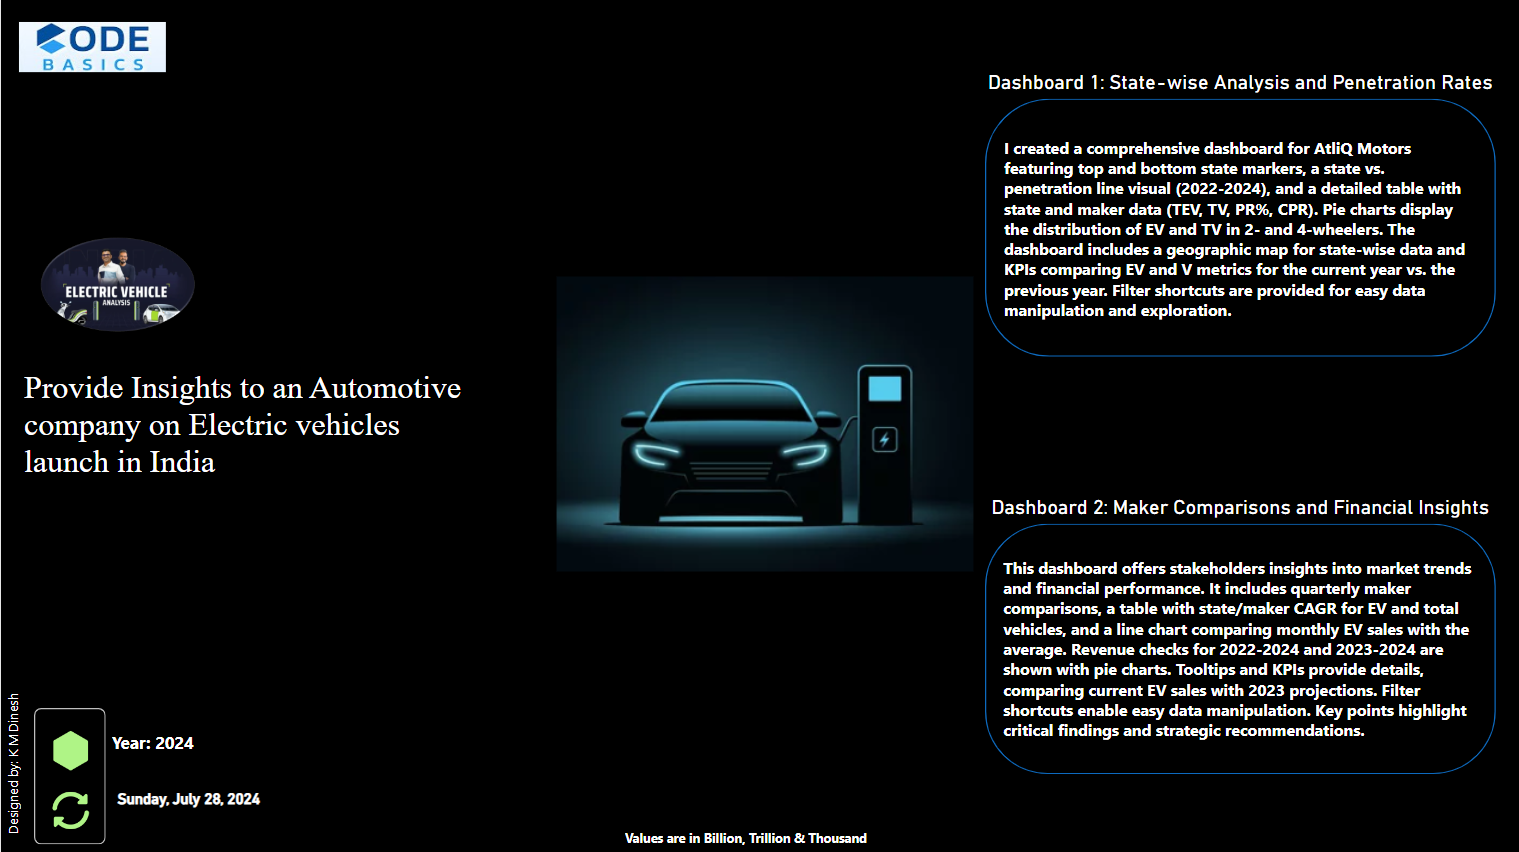

This screenshot's page, from the dashboard's own definition file:
{"tool":"powerbi","page":{"name":"Home","canvas":[1280,720],"ordinal":0},"visuals":[{"type":"shape","box":[27.8,596.5,60,114.3],"z":0},{"type":"shape","box":[19.4,289.1,369.4,141.3],"z":1000},{"type":"image","box":[19.4,193.9,157,145.9],"z":4000},{"type":"image","box":[36.9,661.2,43.4,40.6],"z":5000},{"type":"image","box":[36.9,610.4,43.4,43.4],"z":6000},{"type":"textbox","box":[87.7,610.4,99.7,31.4],"z":7000},{"type":"card","fields":{"Values":["Min(Report_Current_time.Report Last Refreshed)"]},"box":[87.7,653.9,138.5,38.8],"z":8000},{"type":"shape","title":"Dashboard 1: State-wise Analysis and Penetration Rates","box":[823.8,61.9,427.6,240.1],"z":9000},{"type":"shape","title":"Dashboard 2: Maker Comparisons and Financial Insights","box":[823.8,417.4,427.6,233.7],"z":10000},{"type":"actionButton","title":"AB Signature","box":[0,571.7,19.4,148.7],"z":11000},{"type":"shape","box":[522.7,688.9,234.6,31.4],"z":12000},{"type":"image","box":[10.2,16.6,133,51.7],"z":13000}]}

Visuals, with their boxes in screenshot pixels (x1, y1, x2, y2), scaled from the page's 1280x720 canvas onto the 1519x852 screenshot:
shape: box(33, 706, 104, 841)
shape: box(23, 342, 461, 509)
image: box(23, 229, 209, 402)
image: box(44, 782, 95, 830)
image: box(44, 722, 95, 774)
textbox: box(104, 722, 222, 759)
card - Min(Report_Current_time.Report Last Refreshed): box(104, 774, 268, 820)
"Dashboard 1: State-wise Analysis and Penetration Rates" shape: box(978, 73, 1485, 357)
"Dashboard 2: Maker Comparisons and Financial Insights" shape: box(978, 494, 1485, 770)
"AB Signature" actionButton: box(0, 677, 23, 851)
shape: box(620, 815, 899, 851)
image: box(12, 20, 170, 81)
